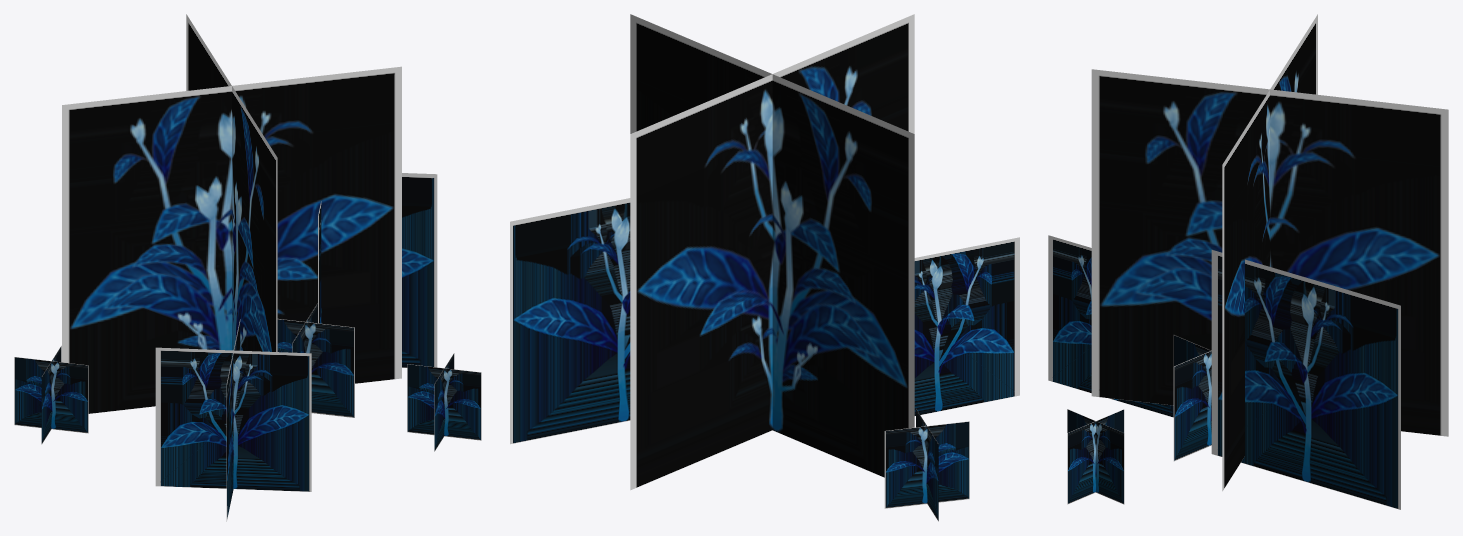
Rendered from S_Plant_DouLuo002.FBX.
3 renders of one model, left to right at view 1: azimuth 30°, elevation 25°; view 2: azimuth 150°, elevation 25°; view 3: azimuth 270°, elevation 25°, orthographic. The views are drawn at different scales.
Parts seen in each view (by area): view 1: S_Plant_DouLuo002; view 2: S_Plant_DouLuo002; view 3: S_Plant_DouLuo002.
Boxes of the visible parts, x1,y1,x2,y2 form: S_Plant_DouLuo002: (14, 14, 481, 521); S_Plant_DouLuo002: (510, 14, 1019, 521); S_Plant_DouLuo002: (1048, 14, 1448, 509).
Size of the model in its own units: 53.09 by 45.19 by 47.09.
